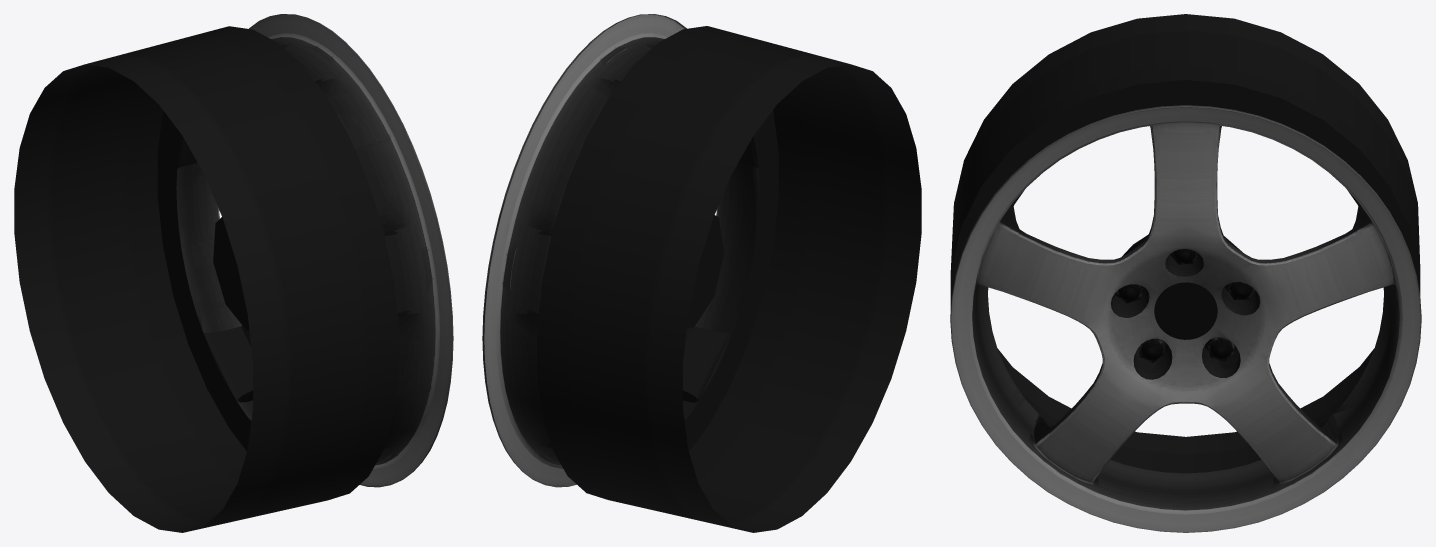
Rendered from wheel36.fbx.
3 renders of one model, left to right at view 1: azimuth 30°, elevation 25°; view 2: azimuth 150°, elevation 25°; view 3: azimuth 270°, elevation 25°, orthographic. The views are drawn at different scales.
Visible parts, largest first — view 1: bor_cb_wheel_wheel_inner_rim_, wheel_rim, bor_cb_wheel_wheel_rim_; view 2: bor_cb_wheel_wheel_inner_rim_, wheel_rim, bor_cb_wheel_wheel_rim_; view 3: bor_cb_wheel_wheel_rim_, bor_cb_wheel_wheel_inner_rim_, wheel_rim, bor_cb_wheel_wheel_chrome_rim_.
Part boxes in pixels (left/top/right/bottom): bor_cb_wheel_wheel_inner_rim_: left=14, top=26, right=399, bottom=532; wheel_rim: left=176, top=14, right=453, bottom=485; bor_cb_wheel_wheel_rim_: left=176, top=14, right=450, bottom=487; bor_cb_wheel_wheel_inner_rim_: left=537, top=26, right=921, bottom=532; wheel_rim: left=482, top=14, right=759, bottom=487; bor_cb_wheel_wheel_rim_: left=482, top=14, right=758, bottom=487; bor_cb_wheel_wheel_rim_: left=951, top=105, right=1421, bottom=532; bor_cb_wheel_wheel_inner_rim_: left=950, top=14, right=1420, bottom=473; wheel_rim: left=950, top=105, right=1421, bottom=532; bor_cb_wheel_wheel_chrome_rim_: left=1115, top=249, right=1254, bottom=362.
Size of the model in its own units: 0.2325 by 0.4797 by 0.4791.
1 material, 1 textured.
